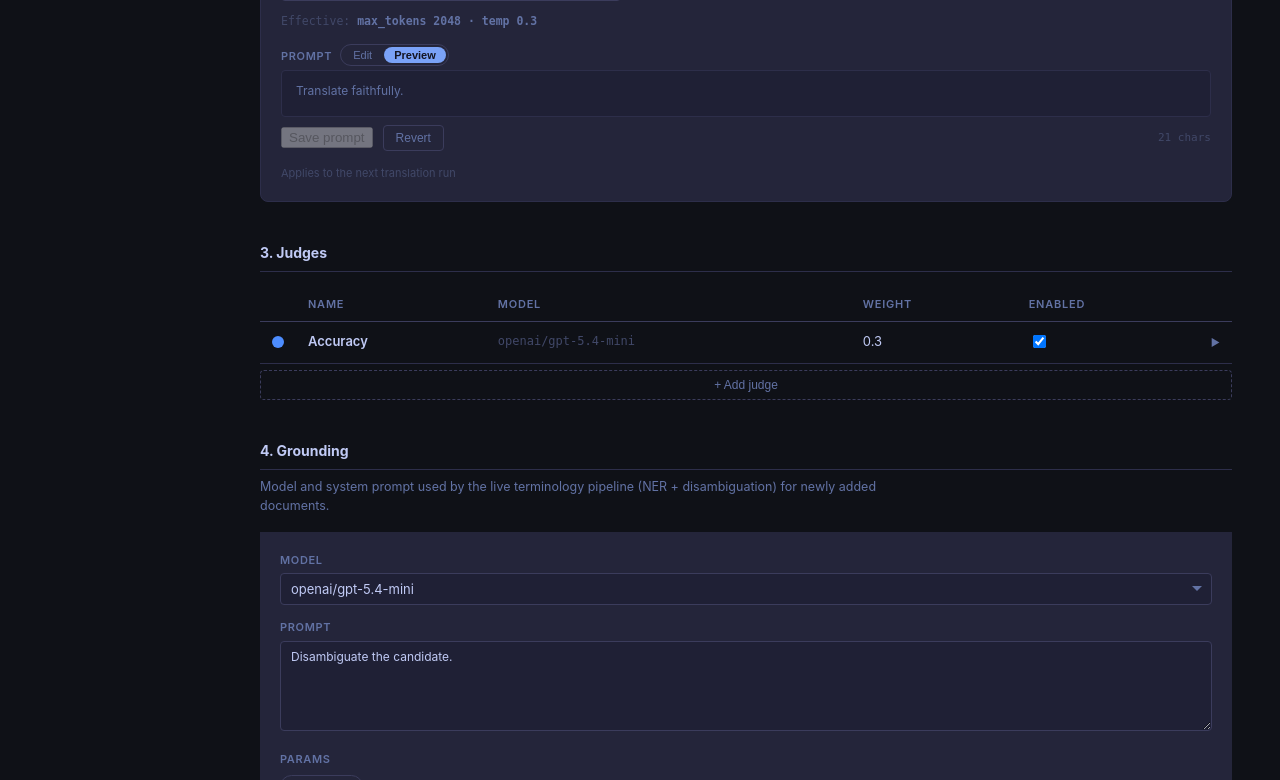
Test: SettingsTab Add Evaluator modal › blocks Save and shows inline error when weight is out of [0,1]
The image size is (1280, 780).
(page scrolled)
Click the button "+ Add judge" at (746, 385), box top-left (260, 370), bottom-right (1232, 400)
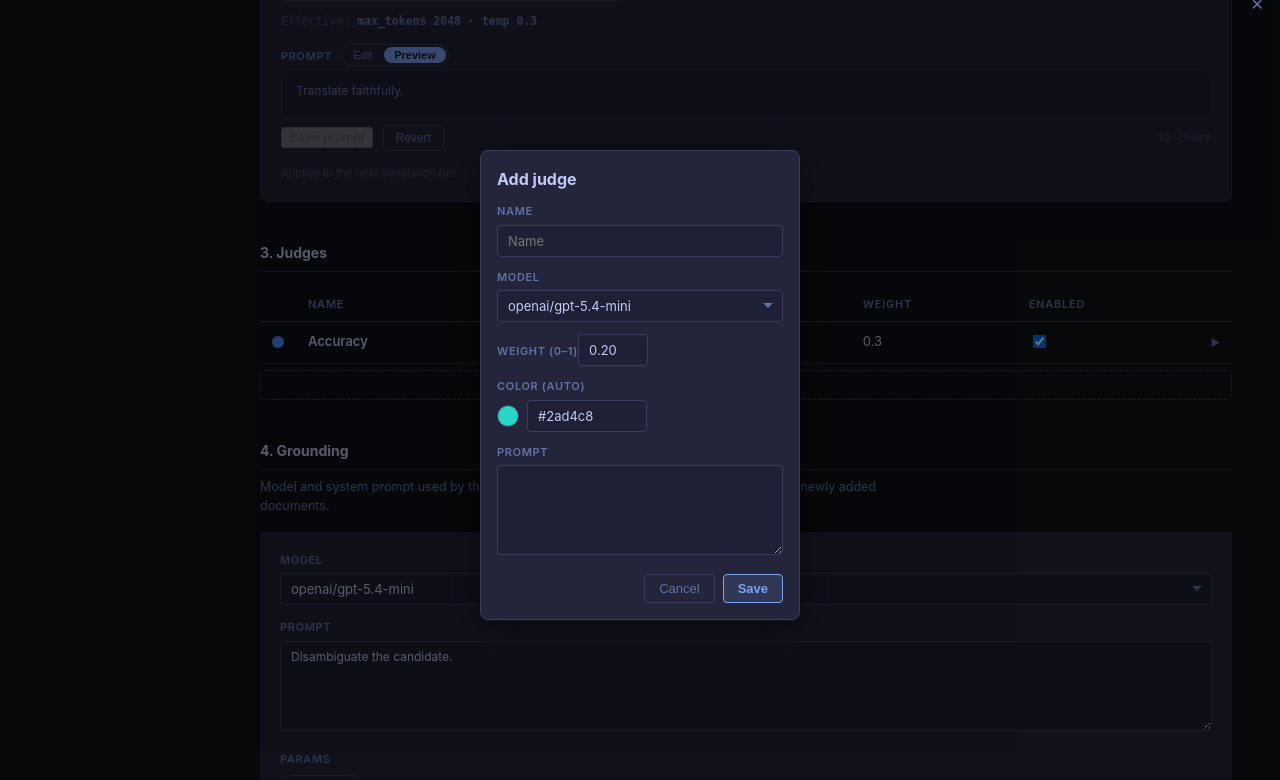
Type "New eval" into the field with placeholder "Name" at (640, 241), box top-left (497, 225), bottom-right (783, 257)
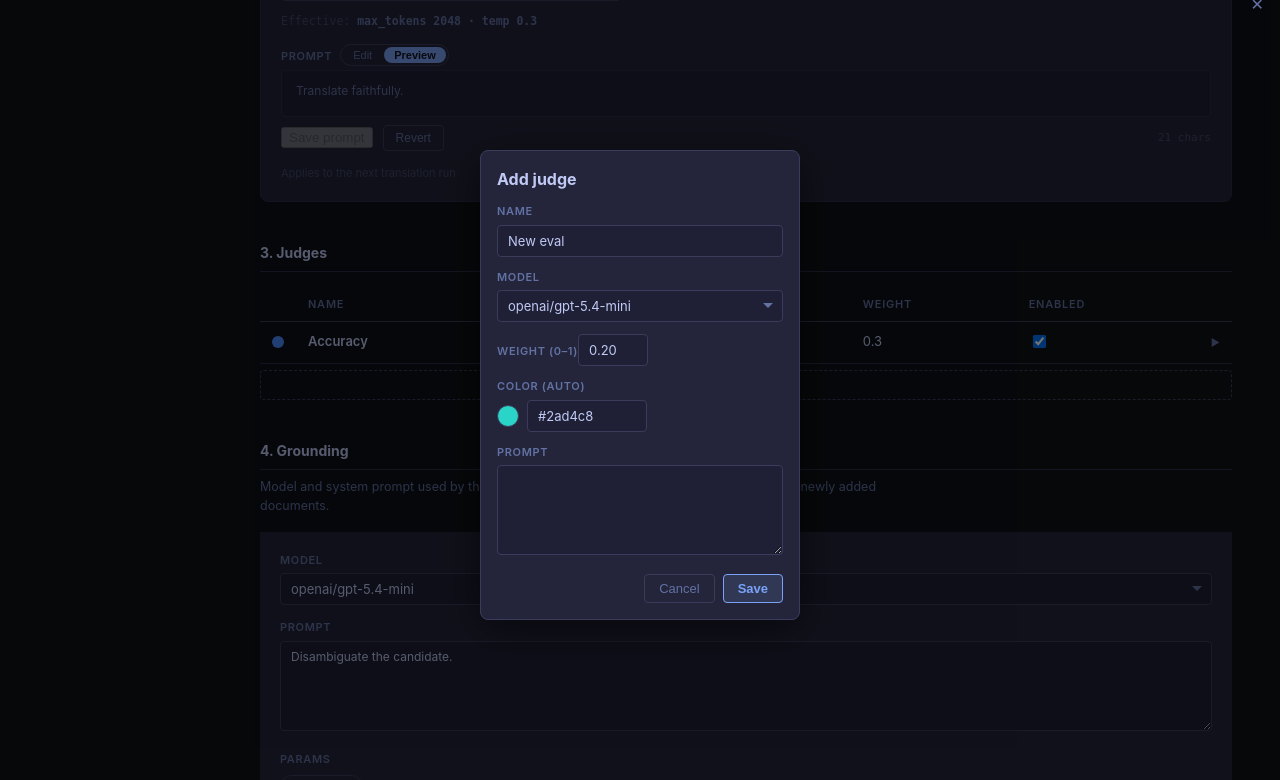
Type "Evaluate this." into the text box with test id "add-evaluator-prompt" at (640, 510), box top-left (497, 465), bottom-right (783, 555)
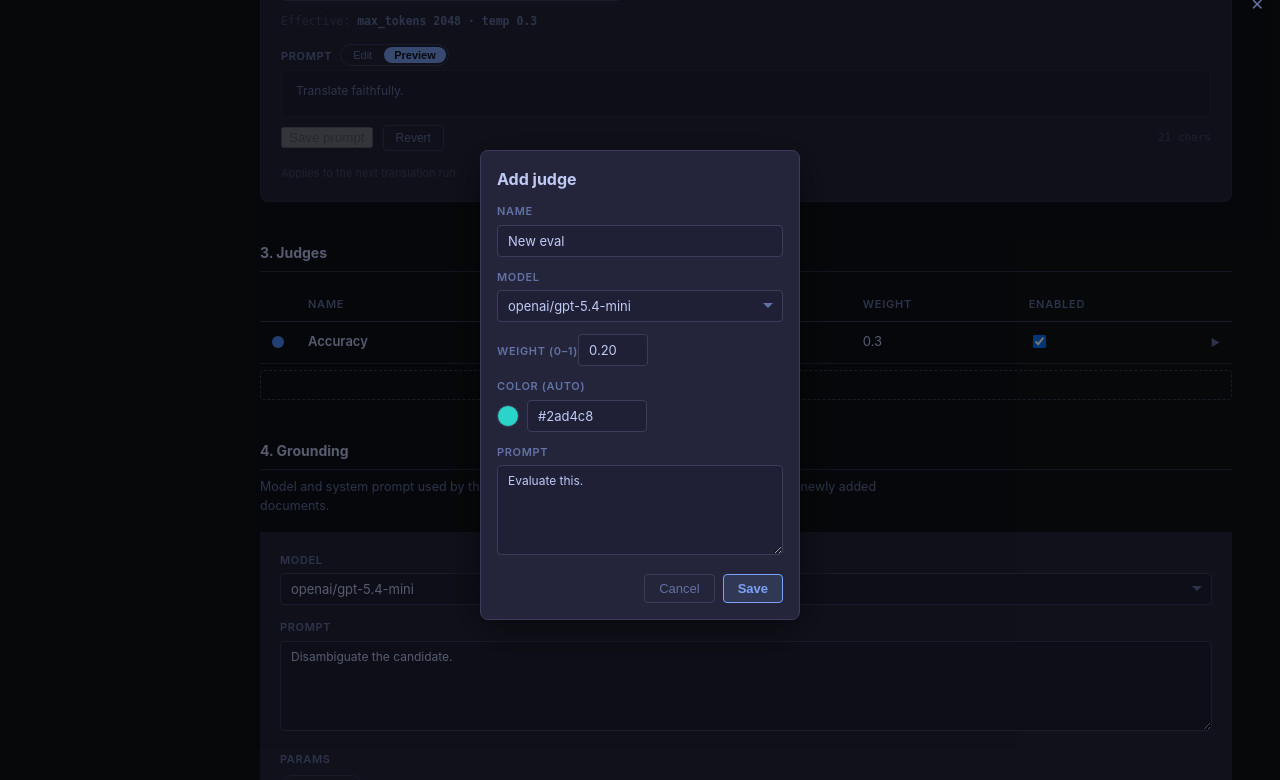
Replace the text in the number field labelled "Weight (0–1)" with "1.5" at (613, 350), box top-left (578, 334), bottom-right (648, 366)
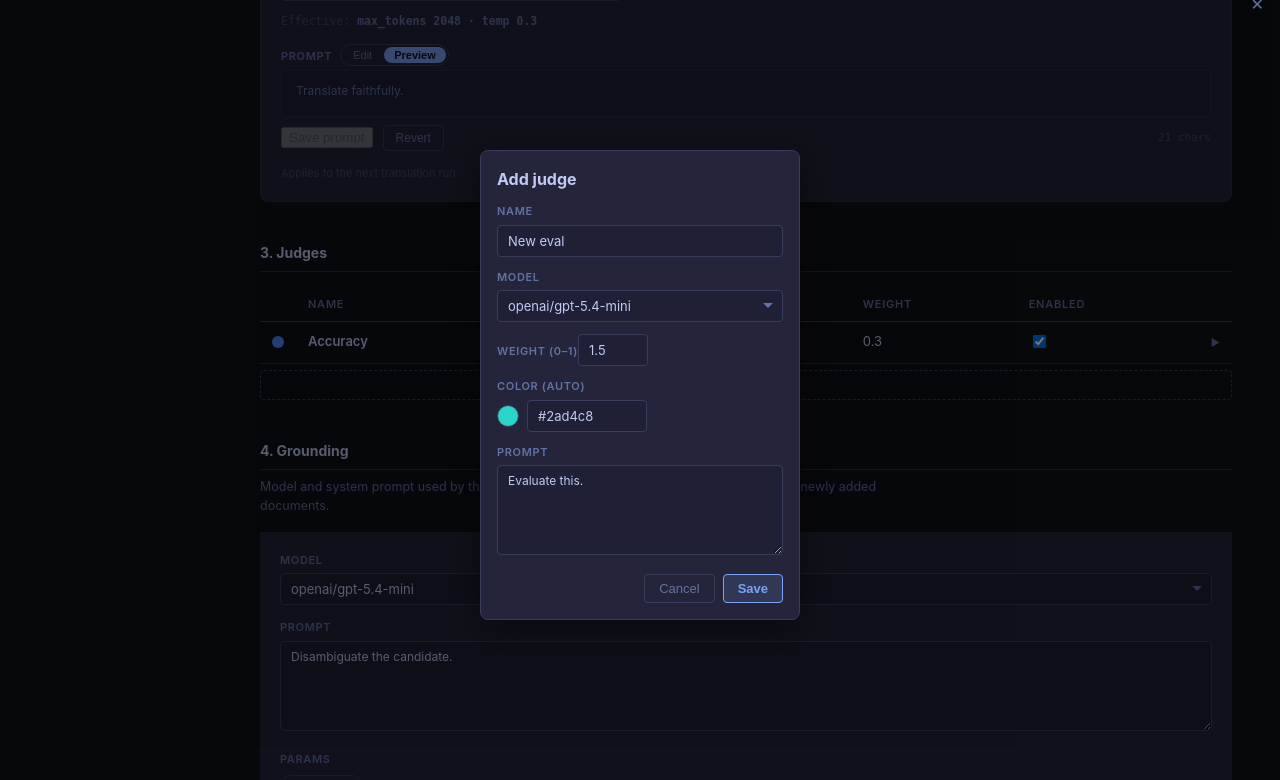
Click the button "Save" at (753, 588), box top-left (723, 574), bottom-right (783, 603)
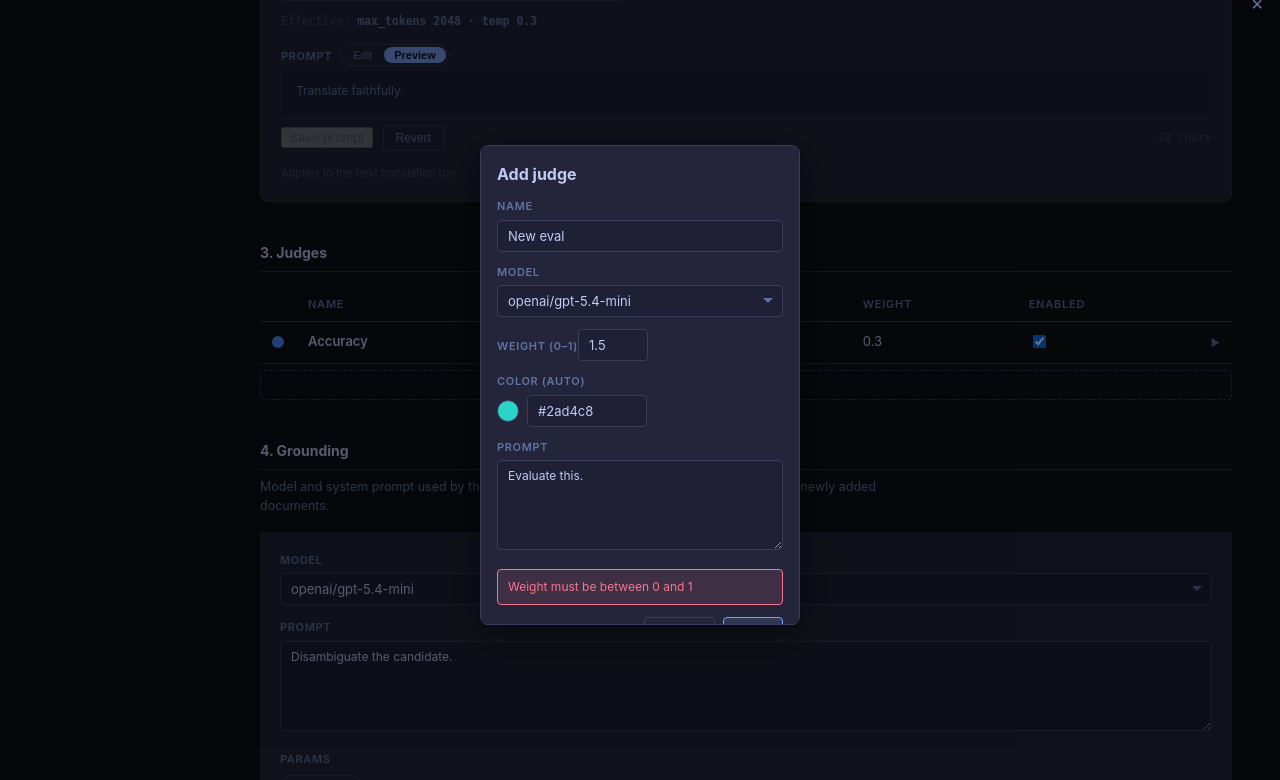
Result: the text with test id "add-evaluator-error" reads "Weight must be between 0 and 1" at top-left (508, 578), bottom-right (693, 594)
